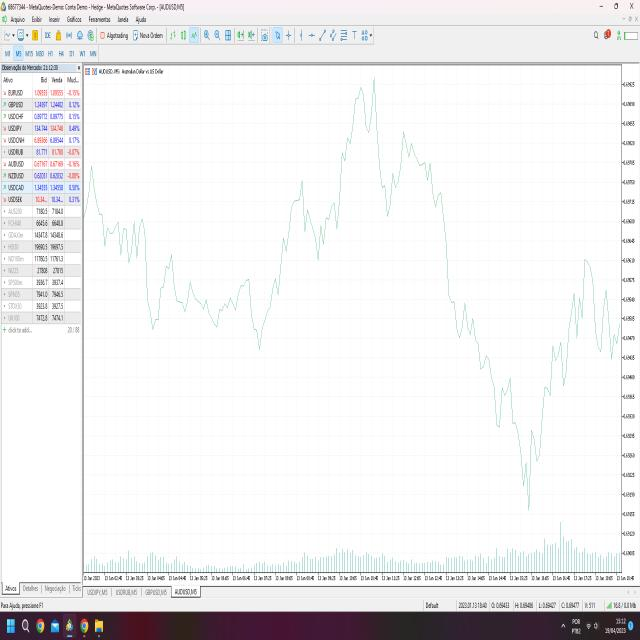bandeira_baixa: (437, 152, 480, 347)
oco_inv: (482, 331, 572, 522)
topo_duplo: (336, 68, 384, 216)
